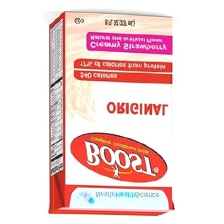carton: (44, 8, 183, 218)
